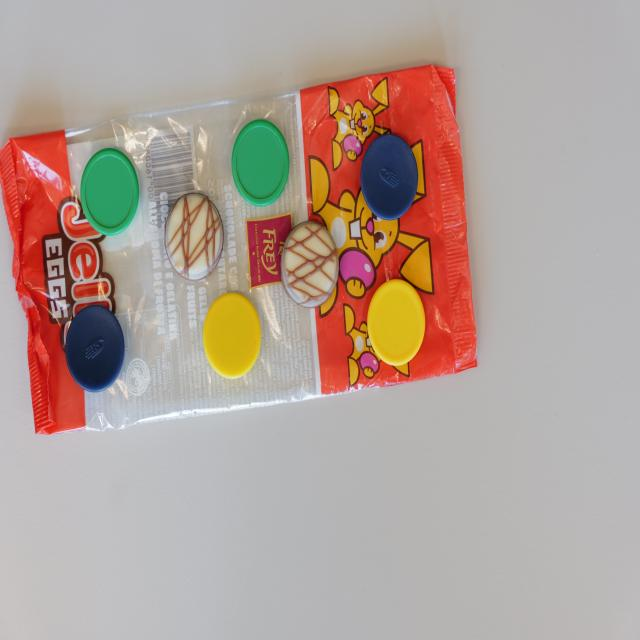Creme_brulee: (167, 188, 224, 284), (280, 222, 340, 313)
